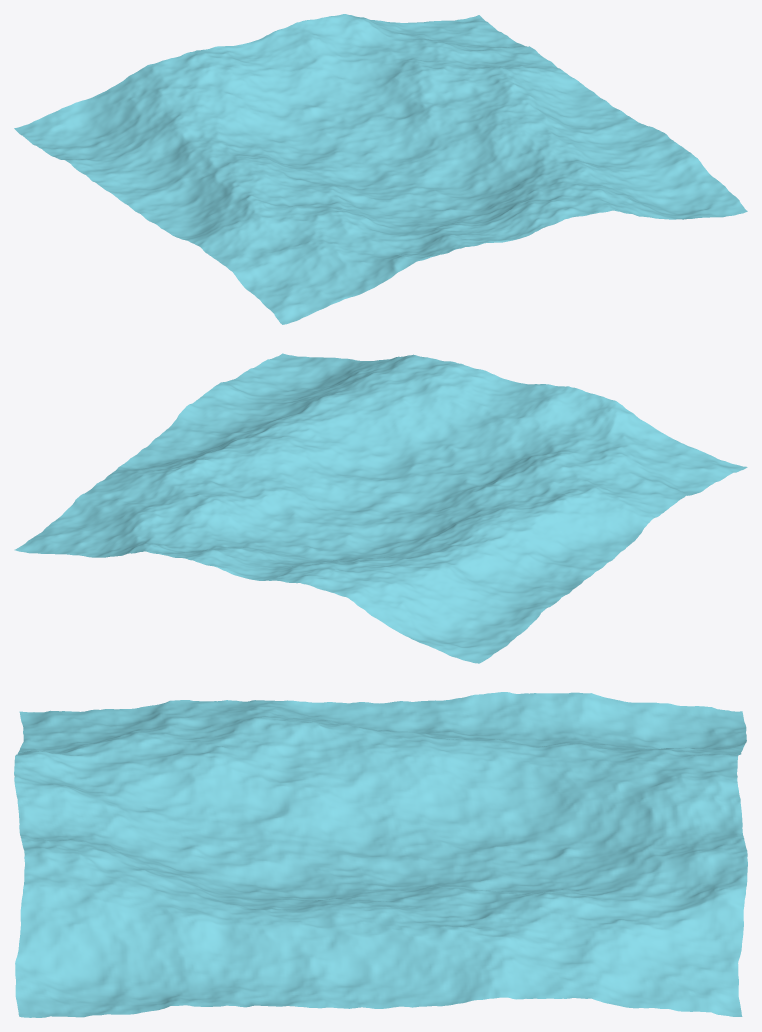
The model's file is lake5.fbx.
3 renders of one model, top to bottom at view 1: azimuth 30°, elevation 25°; view 2: azimuth 150°, elevation 25°; view 3: azimuth 270°, elevation 25°, orthographic. The views are drawn at different scales.
Parts seen in each view (by area): view 1: Plane; view 2: Plane; view 3: Plane.
Part boxes in pixels (left/top/right/bottom): Plane: left=14, top=14, right=747, bottom=324; Plane: left=14, top=353, right=747, bottom=663; Plane: left=14, top=692, right=747, bottom=1017.
Size of the model in its own units: 5134 by 397 by 5076.
